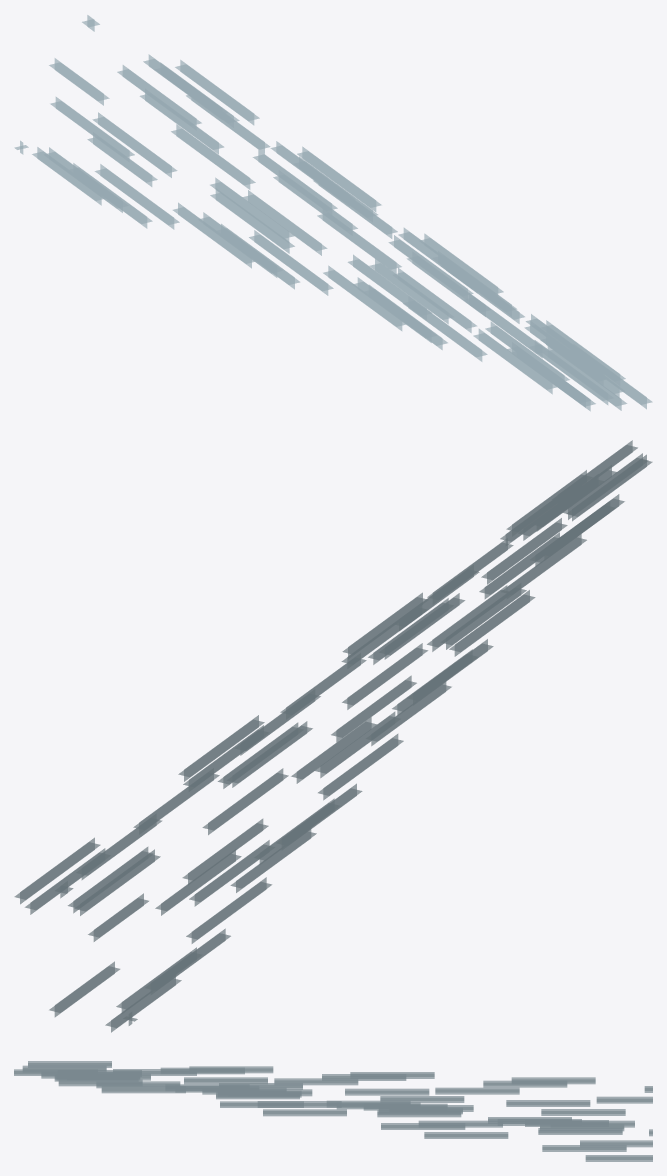
File: wp_water_304.obj
3 views of the same model, one above another, from view 1: azimuth 30°, elevation 25°; view 2: azimuth 150°, elevation 25°; view 3: azimuth 270°, elevation 25° (orthographic). The views are drawn at different scales.
Size of the model in its own units: 0.3 by 0.2941 by 1.82.
Materials: 1 (1 with a texture image).
